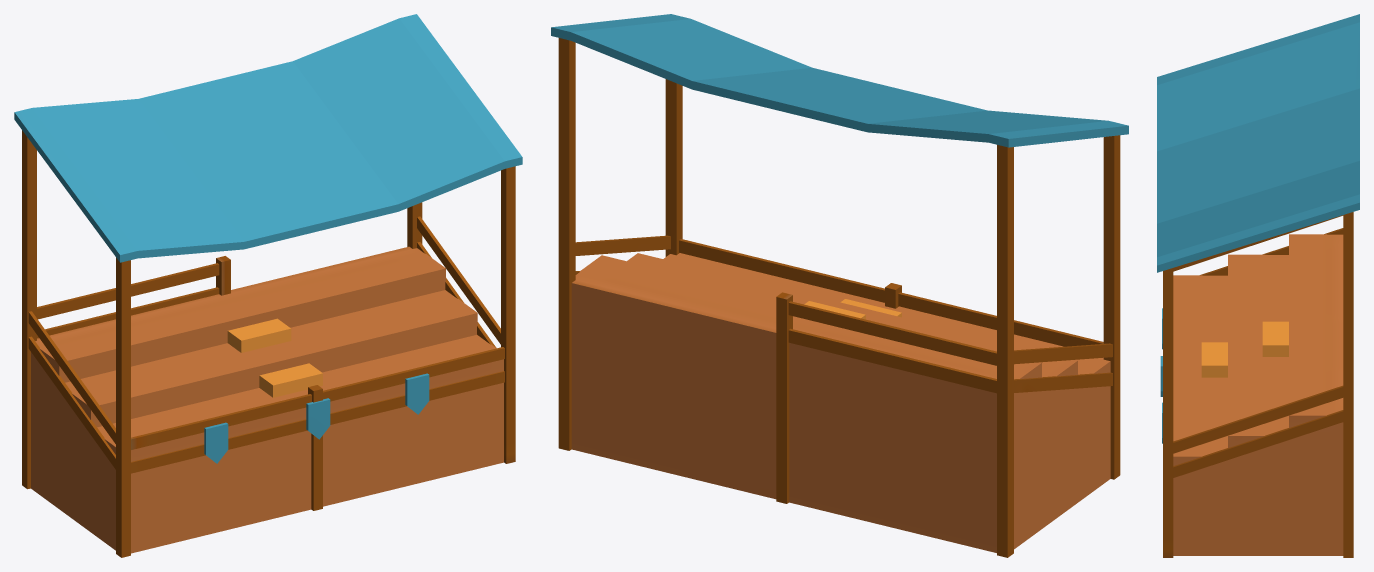
The model's file is kit-market-stall.glb.
The picture shows the model from 3 angles, left to right: view 1: azimuth 30°, elevation 25°; view 2: azimuth 150°, elevation 25°; view 3: azimuth 270°, elevation 25°; orthographic projection. The views are drawn at different scales.
Visible parts, largest first — view 1: Cube.319; view 2: Cube.319; view 3: Cube.319.
Part boxes in pixels (x1=…): Cube.319: x1=14, y1=14, x2=522, y2=557; Cube.319: x1=551, y1=14, x2=1128, y2=557; Cube.319: x1=1157, y1=14, x2=1359, y2=557.
Size of the model in its own units: 2.02 by 1.79 by 0.9197.
Materials: 1 (1 with a texture image).
